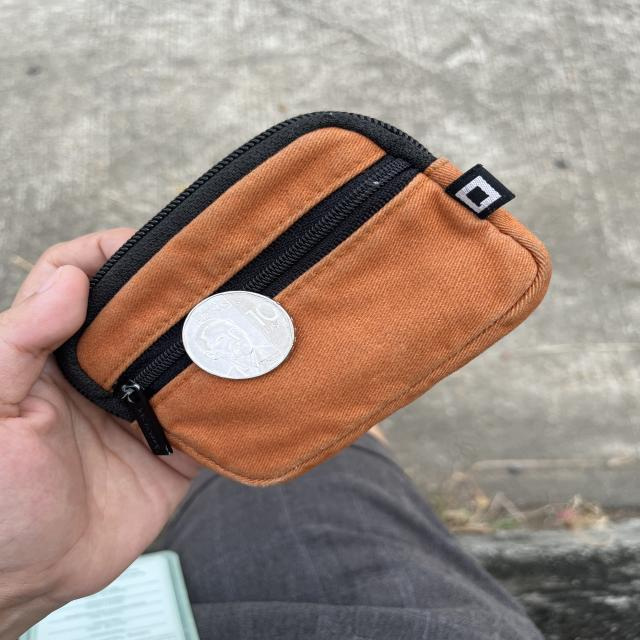10_New_Front: (238, 296, 295, 335)
